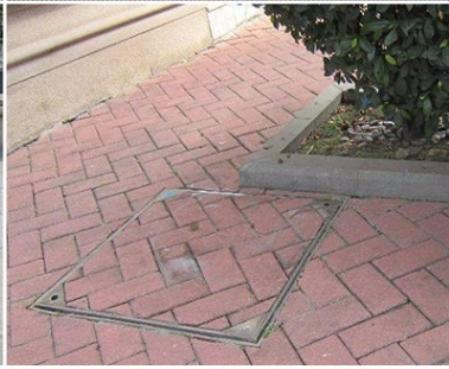wellcover: (28, 178, 350, 343)
